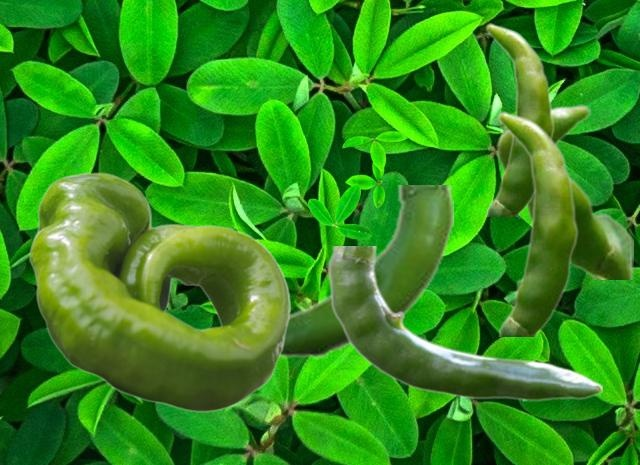green_chili: (29, 172, 289, 411), (328, 246, 601, 400), (280, 185, 452, 359), (496, 104, 632, 278), (496, 110, 578, 335), (484, 22, 554, 215)
